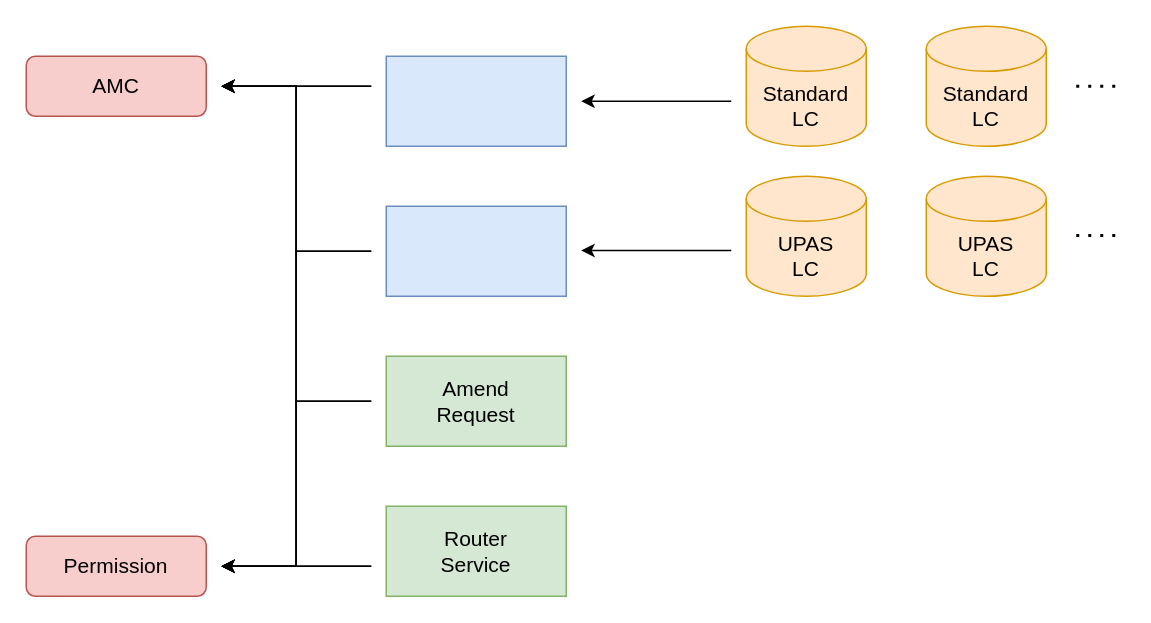
Image size: 1151x623. Some labels were removed from this diagram. Here are the shapes that lost their labels. From the top down, the centre of each, then its label:
(x=475, y=100): Standard Factory
(x=475, y=250): UPAS Factory
